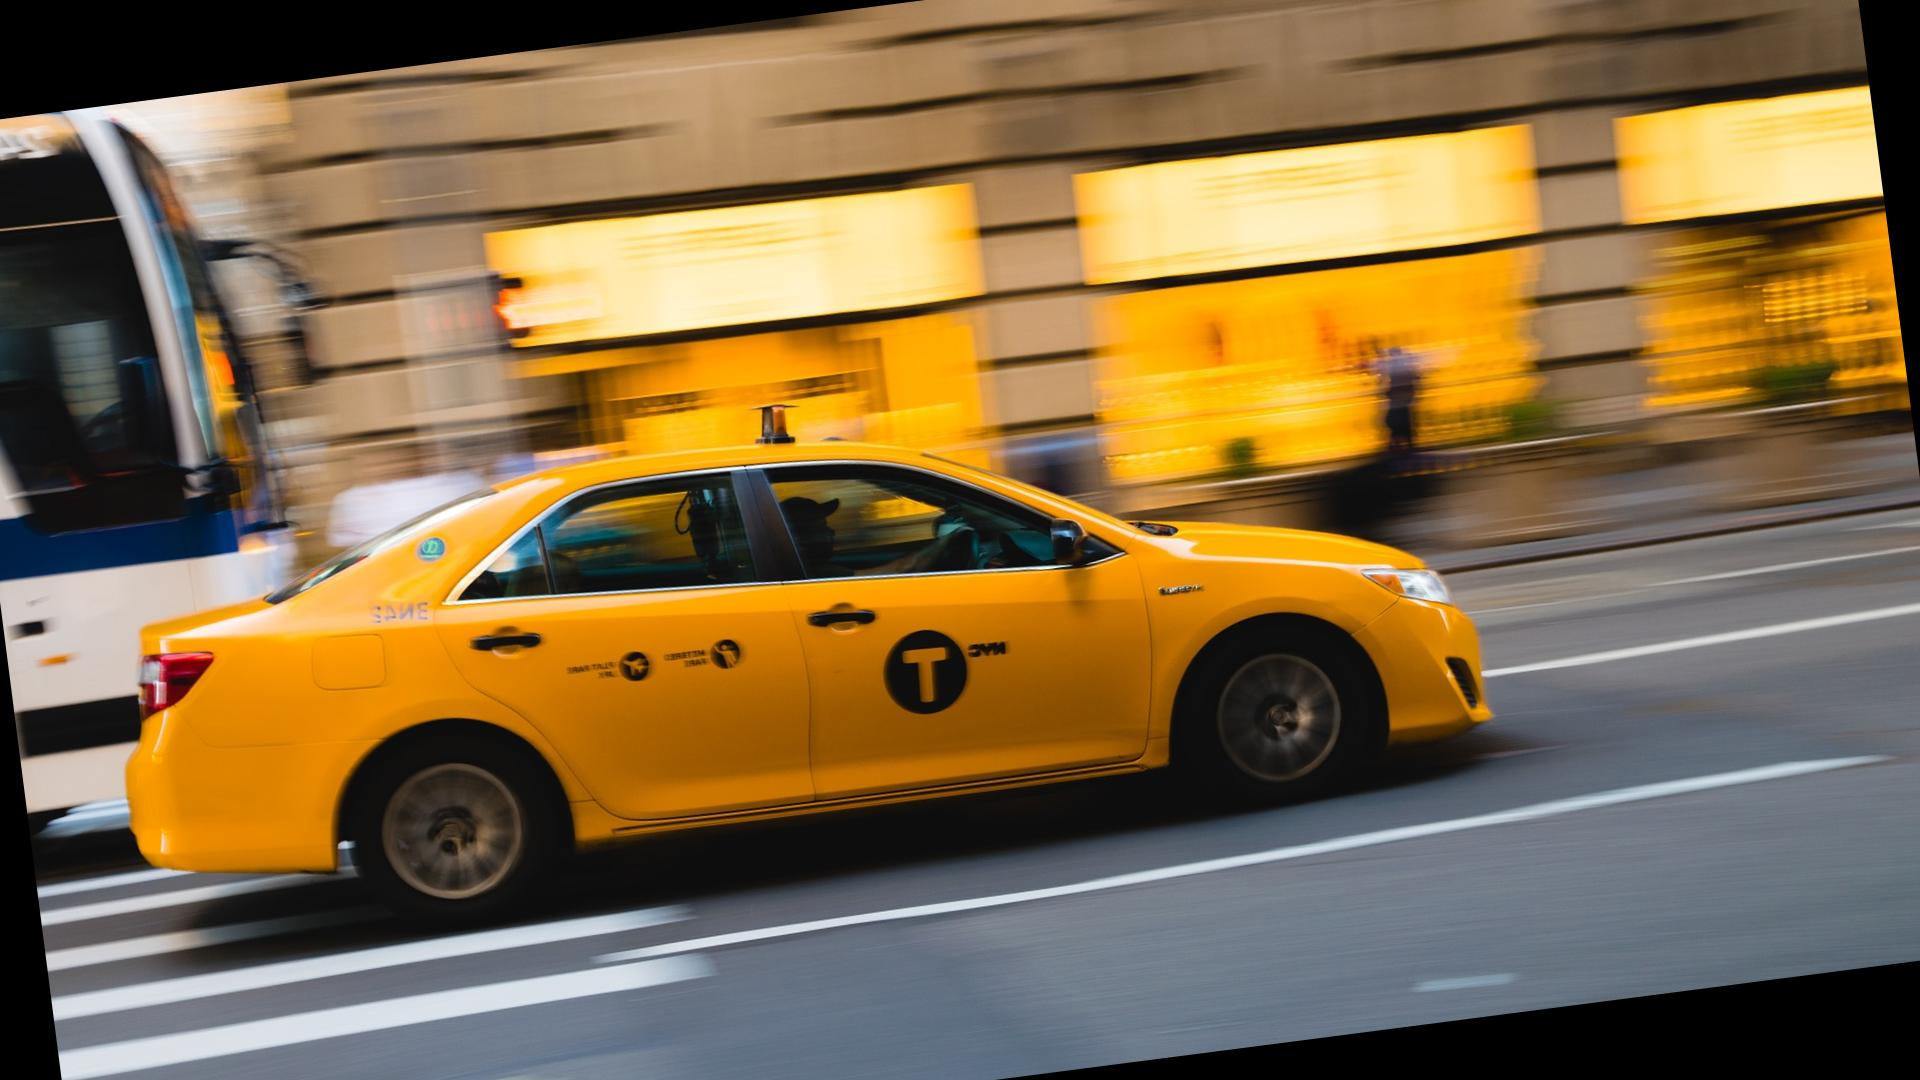taxi: (123, 429, 1485, 947)
